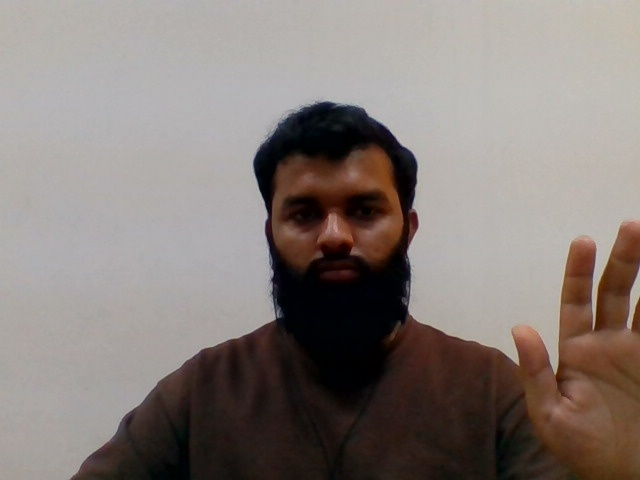Hello: (505, 217, 640, 480)
